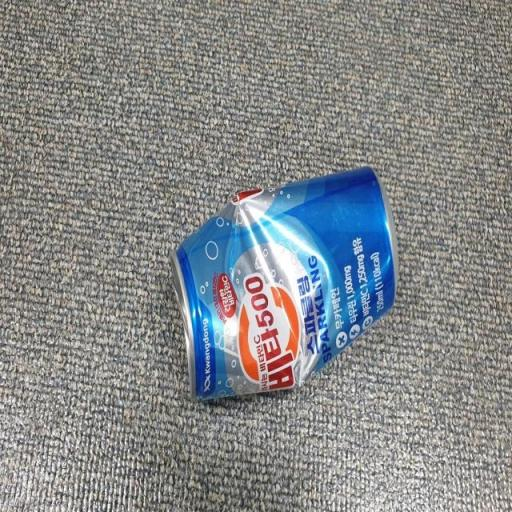metal: (154, 143, 412, 423)
